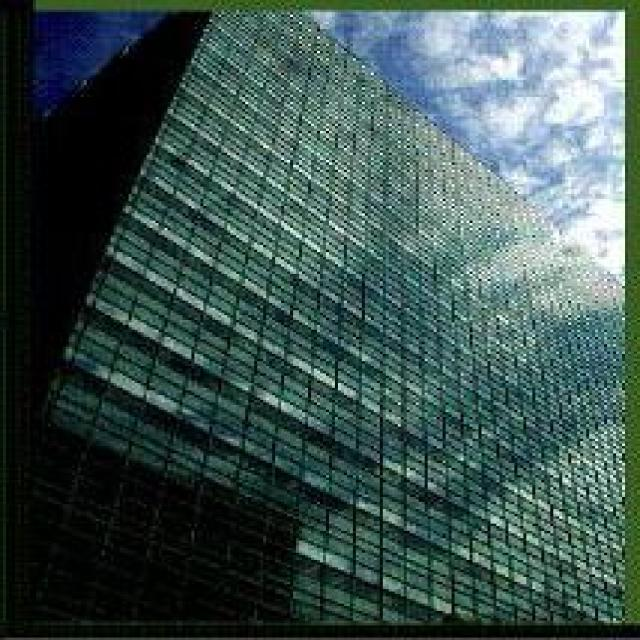building: (37, 8, 627, 620)
